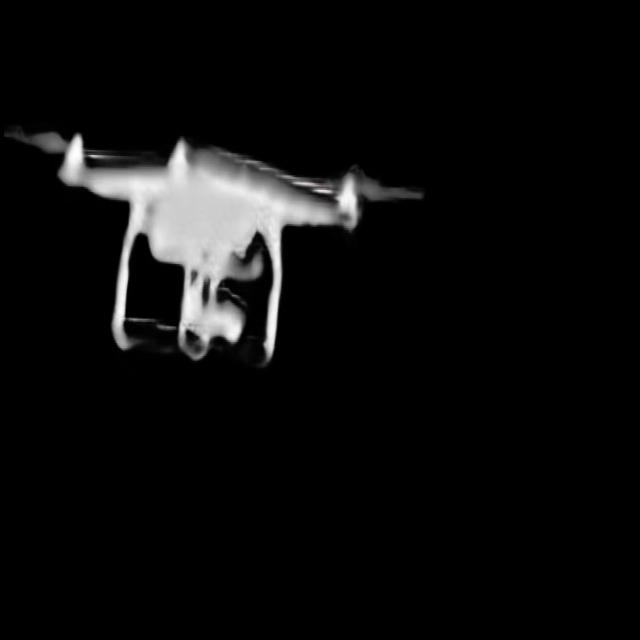drone: (0, 69, 494, 411)
